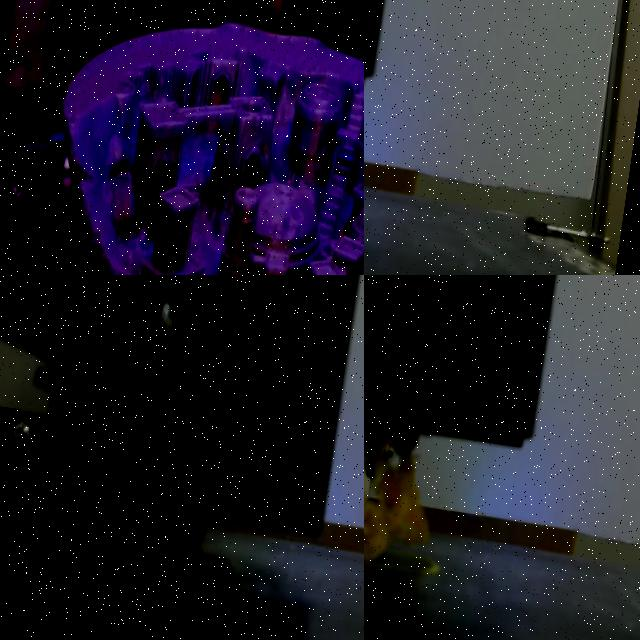spaghetti: (364, 421, 455, 575), (141, 507, 205, 569)
